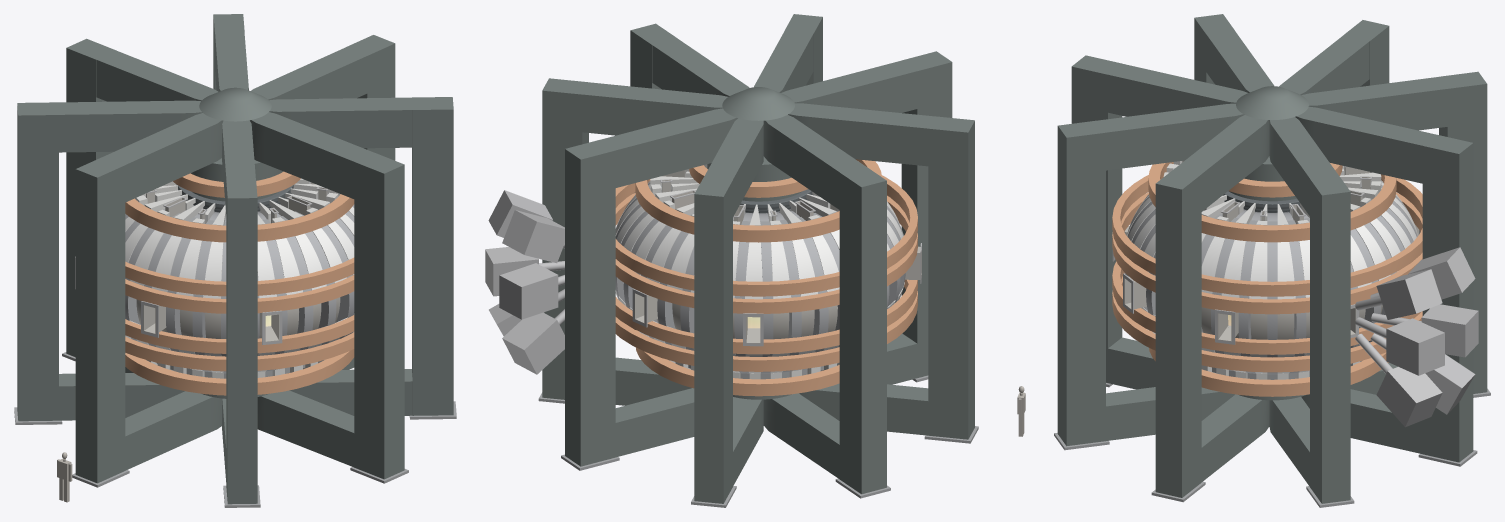
File: jet1975.glb
3 views of the same model, side by side, from view 1: azimuth 30°, elevation 25°; view 2: azimuth 150°, elevation 25°; view 3: azimuth 270°, elevation 25° (orthographic).
Parts seen in each view (by area): view 1: iron_core__outer_limb, iron_core__upper_radial_arm, iron_core__lower_radial_arm, pf_coils__coil4, pf_coils__coil3, tf_coils__casing, structure__shell_plates, iron_core__pillar_top_hub__pillar_top_hub, structure__upper_ring_block_plain, iron_core__foot_plate, pf_coils__coil2, structure__upper_ring_block_vport_small (+4 smaller); view 2: iron_core__outer_limb, iron_core__upper_radial_arm, iron_core__lower_radial_arm, pf_coils__coil4, nbi__injector_tank, tf_coils__casing, pf_coils__coil3, structure__shell_plates, iron_core__pillar_top_hub__pillar_top_hub, structure__upper_ring_block_plain, iron_core__foot_plate, pf_coils__coil2 (+3 smaller); view 3: iron_core__outer_limb, iron_core__upper_radial_arm, iron_core__lower_radial_arm, pf_coils__coil4, nbi__injector_tank, structure__shell_plates, pf_coils__coil3, tf_coils__casing, iron_core__pillar_top_hub__pillar_top_hub, nbi__beam_duct, structure__upper_ring_block_plain, iron_core__foot_plate (+5 smaller).
Part boxes in pixels (x1=…): iron_core__outer_limb: x1=17, y1=14, x2=453, y2=504; iron_core__upper_radial_arm: x1=58, y1=31, x2=412, y2=213; iron_core__lower_radial_arm: x1=59, y1=357, x2=412, y2=481; pf_coils__coil4: x1=125, y1=257, x2=354, y2=371; pf_coils__coil3: x1=125, y1=194, x2=354, y2=395; tf_coils__casing: x1=125, y1=181, x2=354, y2=373; structure__shell_plates: x1=125, y1=207, x2=354, y2=372; iron_core__pillar_top_hub__pillar_top_hub: x1=199, y1=87, x2=271, y2=121; structure__upper_ring_block_plain: x1=141, y1=183, x2=340, y2=225; iron_core__foot_plate: x1=14, y1=352, x2=456, y2=507; pf_coils__coil2: x1=173, y1=171, x2=300, y2=197; structure__upper_ring_block_vport_small: x1=135, y1=188, x2=338, y2=223; iron_core__outer_limb: x1=542, y1=14, x2=974, y2=503; iron_core__upper_radial_arm: x1=582, y1=31, x2=934, y2=216; iron_core__lower_radial_arm: x1=615, y1=333, x2=928, y2=485; pf_coils__coil4: x1=615, y1=175, x2=917, y2=371; nbi__injector_tank: x1=485, y1=190, x2=564, y2=374; tf_coils__casing: x1=615, y1=173, x2=905, y2=373; pf_coils__coil3: x1=635, y1=159, x2=881, y2=396; structure__shell_plates: x1=615, y1=181, x2=904, y2=373; iron_core__pillar_top_hub__pillar_top_hub: x1=722, y1=87, x2=794, y2=120; structure__upper_ring_block_plain: x1=650, y1=169, x2=836, y2=225; iron_core__foot_plate: x1=538, y1=375, x2=978, y2=507; pf_coils__coil2: x1=689, y1=165, x2=807, y2=197; iron_core__outer_limb: x1=1057, y1=14, x2=1487, y2=503; iron_core__upper_radial_arm: x1=1098, y1=30, x2=1447, y2=215; iron_core__lower_radial_arm: x1=1106, y1=337, x2=1422, y2=486; pf_coils__coil4: x1=1112, y1=175, x2=1422, y2=372; nbi__injector_tank: x1=1376, y1=247, x2=1478, y2=427; structure__shell_plates: x1=1127, y1=180, x2=1417, y2=373; pf_coils__coil3: x1=1148, y1=162, x2=1396, y2=396; tf_coils__casing: x1=1124, y1=181, x2=1417, y2=374; iron_core__pillar_top_hub__pillar_top_hub: x1=1236, y1=86, x2=1308, y2=119; nbi__beam_duct: x1=1355, y1=292, x2=1421, y2=373; structure__upper_ring_block_plain: x1=1166, y1=163, x2=1381, y2=225; iron_core__foot_plate: x1=1054, y1=383, x2=1490, y2=507.
Bounding box in the file's own units: 16.44 × 12.13 × 14.66.
